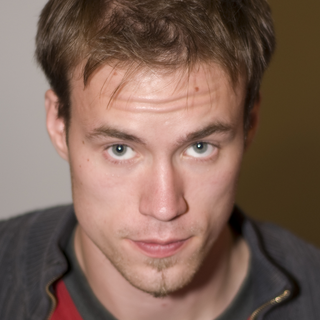eye: (178, 134, 224, 160), (98, 139, 143, 164)
